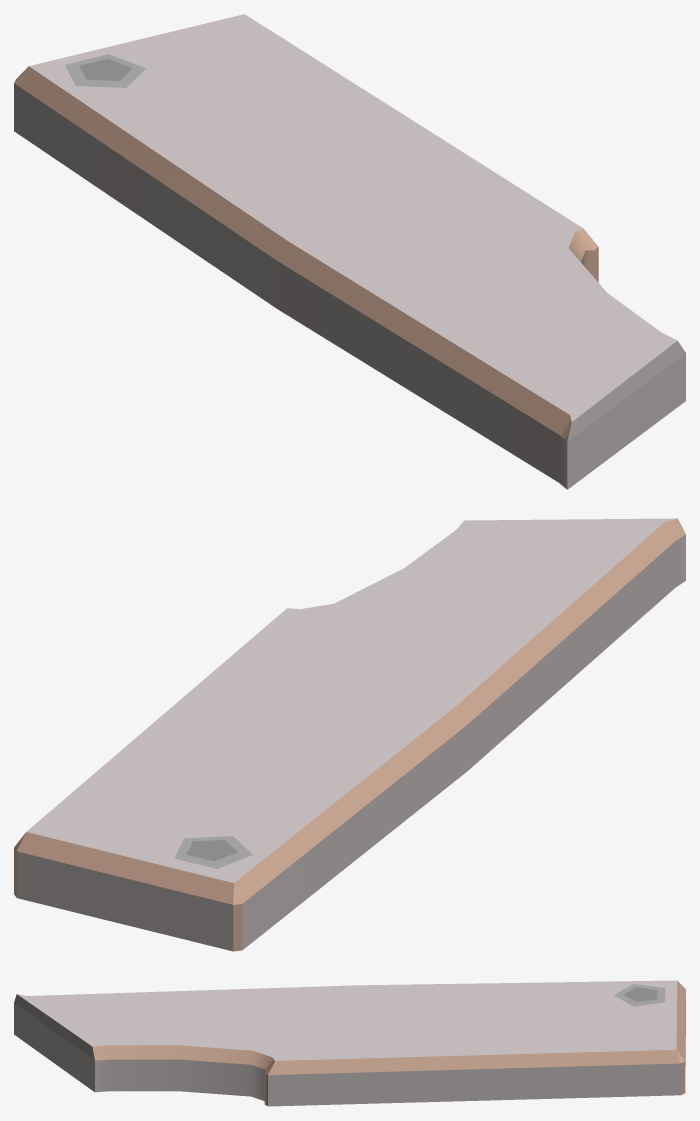
File: WoodBoardF.glb
The picture shows the model from 3 angles, top to bottom: view 1: azimuth 30°, elevation 25°; view 2: azimuth 150°, elevation 25°; view 3: azimuth 270°, elevation 25°; orthographic projection. The views are drawn at different scales.
Parts seen in each view (by area): view 1: WoodBoardF; view 2: WoodBoardF; view 3: WoodBoardF.
Part boxes in pixels (bbox=[...]): WoodBoardF: bbox=[14, 14, 685, 489]; WoodBoardF: bbox=[14, 518, 685, 951]; WoodBoardF: bbox=[14, 980, 685, 1106].
Bounding box in the file's own units: 0.6399 × 0.1513 × 2.08.
